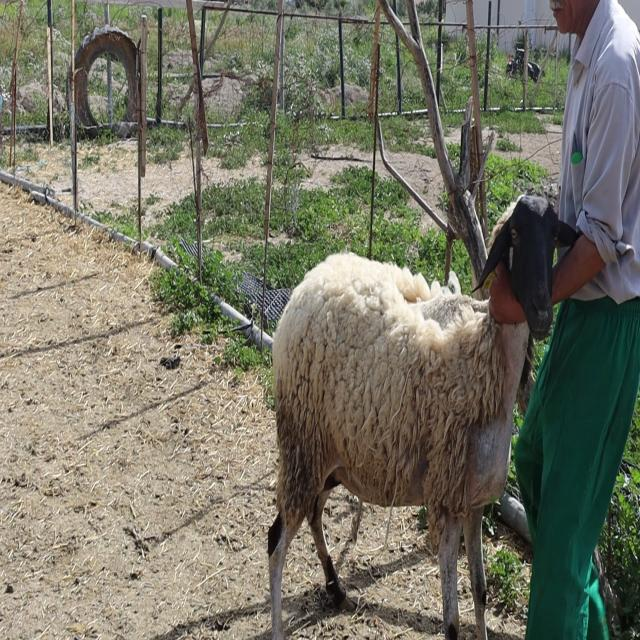Score_3: (268, 253, 526, 639)
